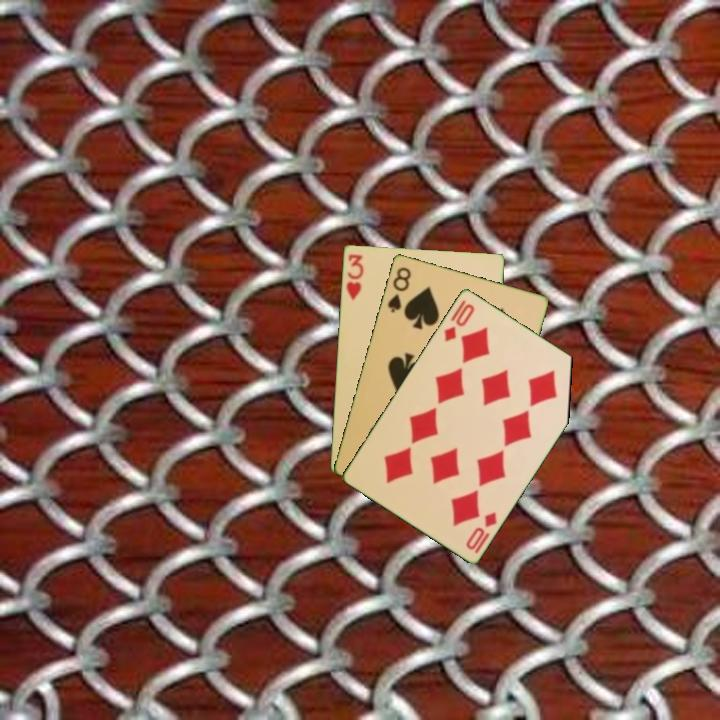10d: (440, 296, 477, 345), (462, 507, 500, 552)
3h: (342, 250, 366, 303)
8s: (384, 263, 414, 315)
